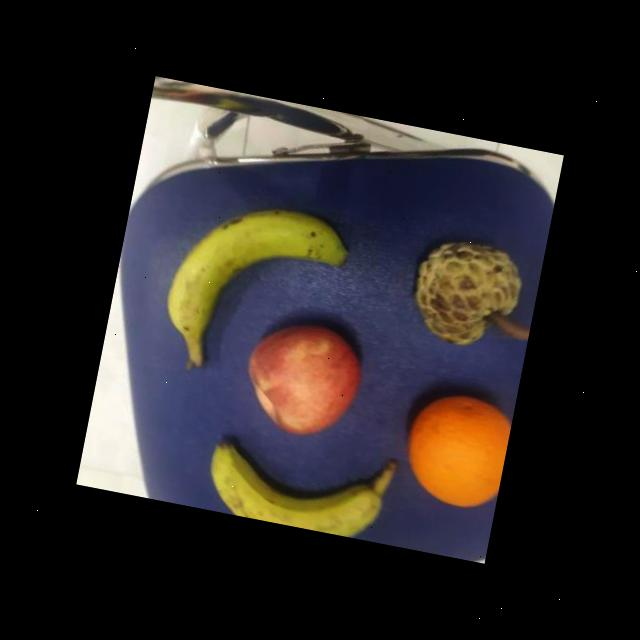Sakya fruit: (404, 229, 532, 357)
apple: (236, 309, 370, 446)
banana: (156, 190, 357, 394), (194, 423, 398, 544)
orange: (384, 379, 516, 515)
